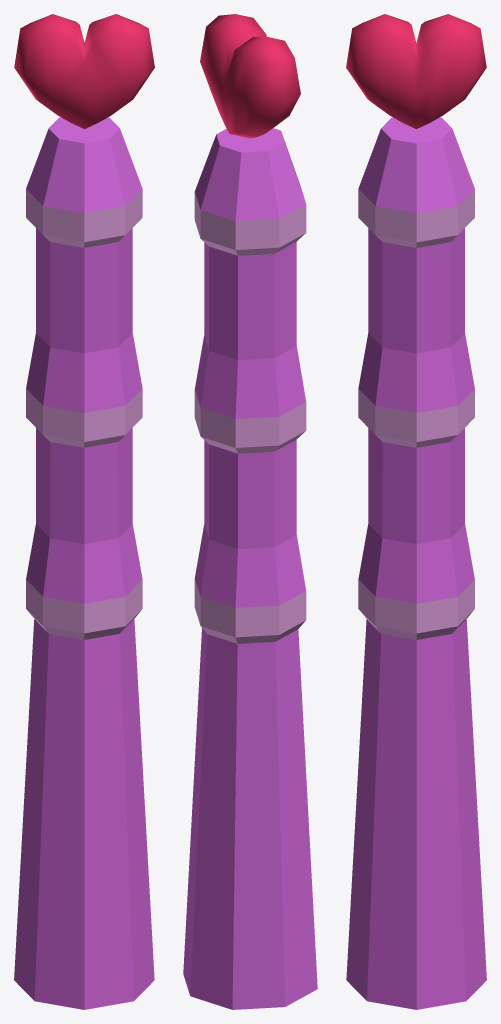
File: gate2.fbx
The picture shows the model from 3 angles, left to right: view 1: azimuth 90°, elevation 25°; view 2: azimuth 210°, elevation 25°; view 3: azimuth 270°, elevation 25°; orthographic projection.
Parts seen in each view (by area): view 1: Cylinder, Cube.004; view 2: Cylinder, Cube.004; view 3: Cylinder, Cube.004.
Boxes of the visible parts, x1,y1,x2,y2 form: Cylinder: (14, 117, 154, 1009); Cube.004: (14, 14, 154, 129); Cylinder: (183, 128, 317, 1009); Cube.004: (200, 14, 300, 138); Cylinder: (346, 117, 486, 1009); Cube.004: (346, 14, 486, 128).
Size of the model in its own units: 22.76 by 172 by 22.81.
